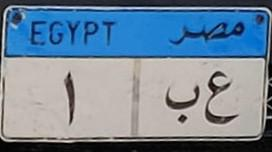1: (54, 64, 85, 130)
ب: (161, 76, 201, 139)
ع: (201, 59, 239, 130)
